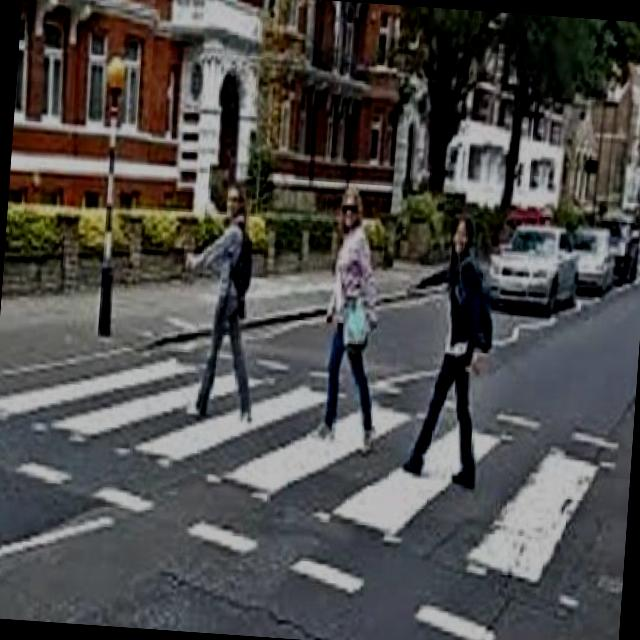Person: (394, 213, 499, 488), (173, 175, 271, 426), (304, 181, 394, 451)
